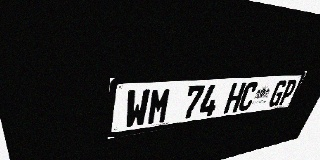4: (197, 84, 222, 118)
7: (180, 85, 205, 120)
C: (236, 82, 260, 112)
G: (267, 80, 289, 107)
H: (223, 82, 246, 114)
M: (146, 87, 172, 125)
P: (277, 79, 298, 106)
W: (124, 89, 151, 129)
